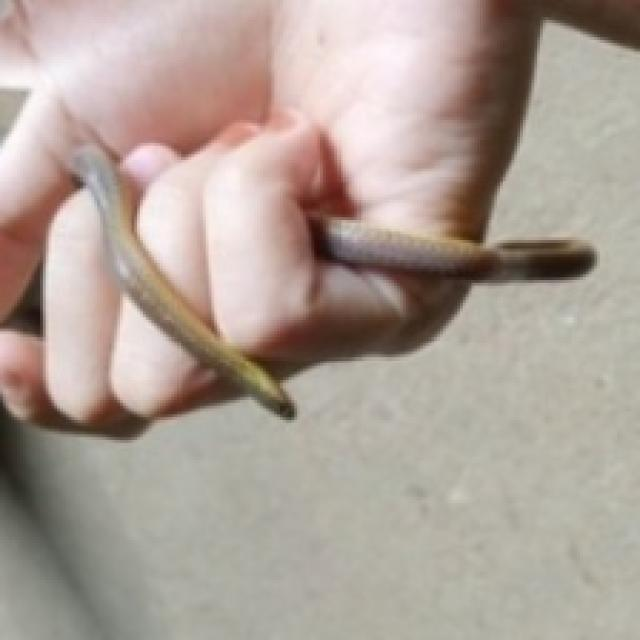gervais worm snake: (71, 143, 294, 417), (306, 214, 594, 280)
